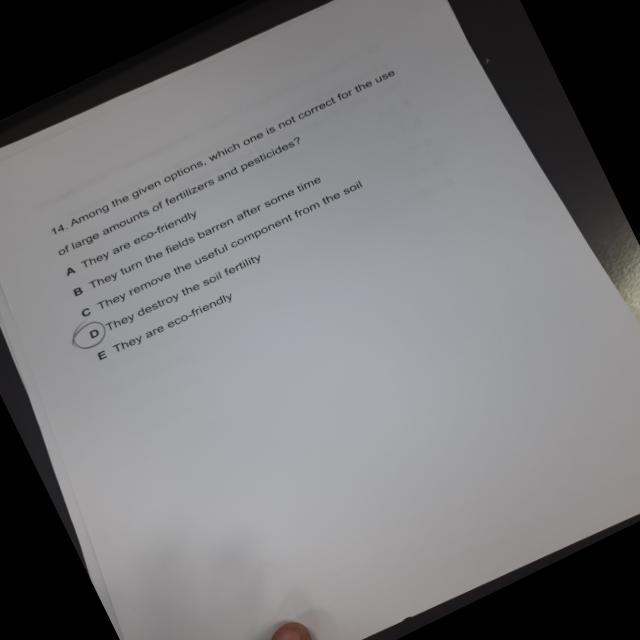D: (63, 314, 117, 360)
